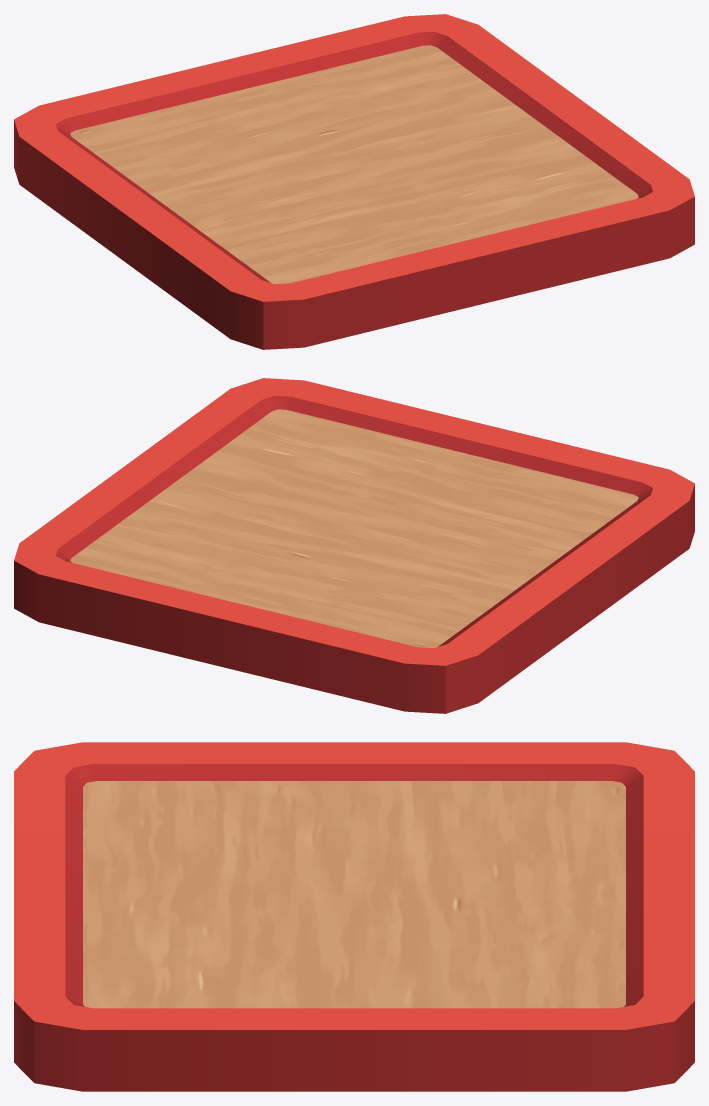
File: moving_ground_japan.fbx
3 renders of one model, top to bottom at view 1: azimuth 30°, elevation 25°; view 2: azimuth 150°, elevation 25°; view 3: azimuth 270°, elevation 25°, orthographic. The views are drawn at different scales.
Parts seen in each view (by area): view 1: Plane.009; view 2: Plane.009; view 3: Plane.009.
Boxes of the visible parts, bbox=[...] form: Plane.009: bbox=[14, 14, 694, 349]; Plane.009: bbox=[14, 378, 694, 713]; Plane.009: bbox=[14, 742, 694, 1091].
Size of the model in its own units: 1000 by 100 by 1000.
